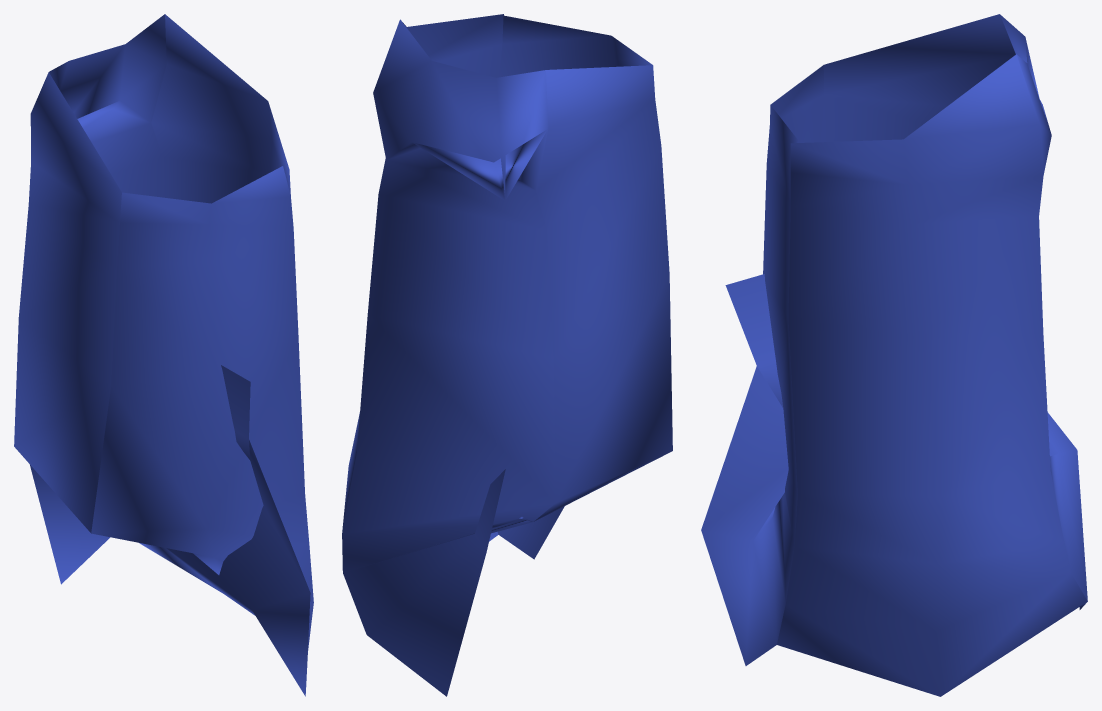
The model's file is right_arm.glb.
The picture shows the model from 3 angles, left to right: view 1: azimuth 30°, elevation 25°; view 2: azimuth 150°, elevation 25°; view 3: azimuth 270°, elevation 25°; orthographic projection. The views are drawn at different scales.
Visible parts, largest first — view 1: sweater-blue_RIGHT_ARM; view 2: sweater-blue_RIGHT_ARM; view 3: sweater-blue_RIGHT_ARM.
Boxes of the visible parts, x1,y1,x2,y2 form: sweater-blue_RIGHT_ARM: (14, 14, 313, 696); sweater-blue_RIGHT_ARM: (342, 14, 672, 696); sweater-blue_RIGHT_ARM: (701, 14, 1087, 696).
Size of the model in its own units: 0.1397 by 0.3239 by 0.1854.
1 material, 1 textured.
